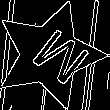M_SW: (14, 20, 85, 89)
